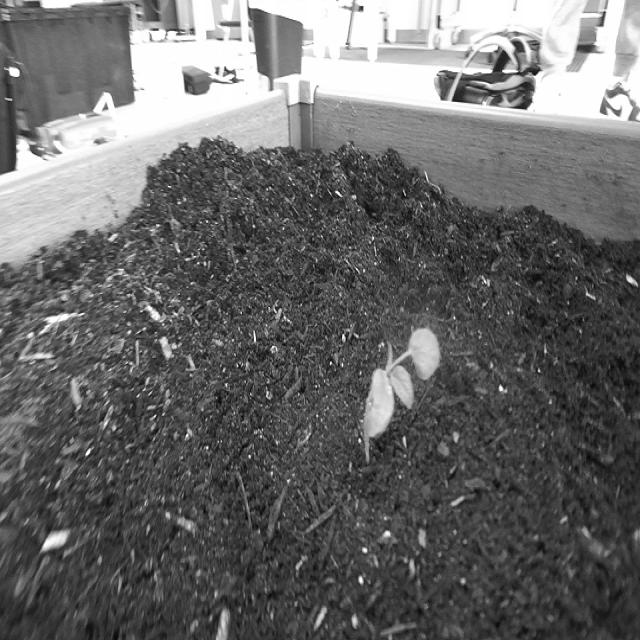Healthy: (362, 317, 442, 473)
